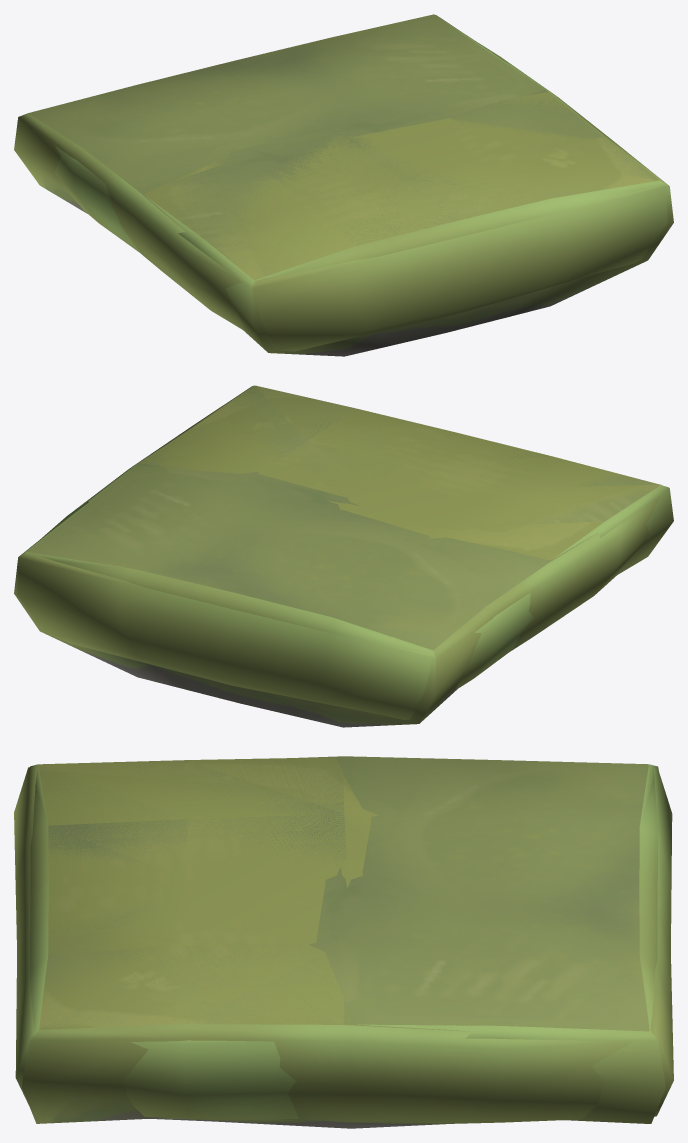
Rendered from PR_Tiles_Tut_plus_Lvl1.gltf.
3 views of the same model, one above another, from view 1: azimuth 30°, elevation 25°; view 2: azimuth 150°, elevation 25°; view 3: azimuth 270°, elevation 25° (orthographic). The views are drawn at different scales.
Visible parts, largest first — view 1: PR_Lvl1_Tile_8, PR_Lvl1_Tile_1, PR_Lvl1_Tile_2; view 2: PR_Lvl1_Tile_8, PR_Lvl1_Tile_1, PR_Lvl1_Tile_2; view 3: PR_Lvl1_Tile_1, PR_Lvl1_Tile_8, PR_Lvl1_Tile_2.
Boxes of the visible parts, x1,y1,x2,y2 form: PR_Lvl1_Tile_8: [14, 14, 667, 351]; PR_Lvl1_Tile_1: [144, 43, 673, 352]; PR_Lvl1_Tile_2: [54, 66, 668, 356]; PR_Lvl1_Tile_8: [14, 466, 668, 727]; PR_Lvl1_Tile_1: [42, 385, 673, 719]; PR_Lvl1_Tile_2: [17, 385, 660, 719]; PR_Lvl1_Tile_1: [22, 757, 673, 1125]; PR_Lvl1_Tile_8: [14, 756, 665, 1128]; PR_Lvl1_Tile_2: [22, 757, 673, 1123].
Size of the model in its own units: 2.14 by 0.6447 by 2.1.
Materials: 1 (1 with a texture image).
